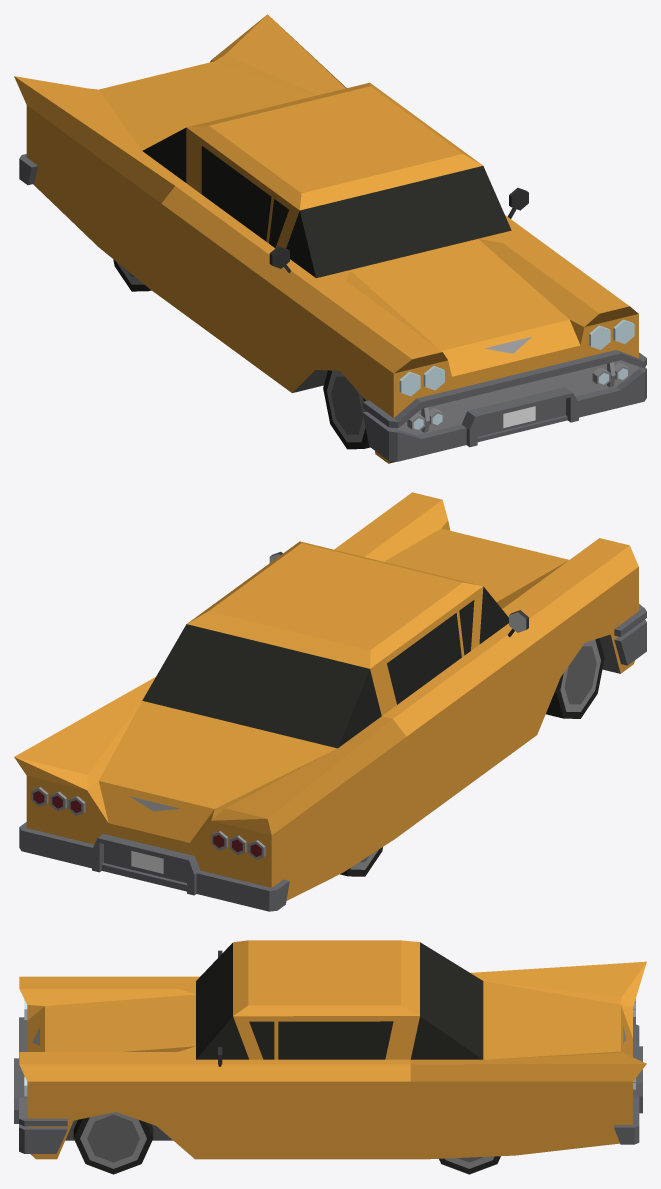
The model's file is Veh_Retro_Car_03_Yellow.glb.
The picture shows the model from 3 angles, top to bottom: view 1: azimuth 30°, elevation 25°; view 2: azimuth 150°, elevation 25°; view 3: azimuth 270°, elevation 25°; orthographic projection. The views are drawn at different scales.
Parts seen in each view (by area): view 1: Retro_Car_03_Green, Wheel_FR; view 2: Retro_Car_03_Green, Wheel_FR; view 3: Retro_Car_03_Green, Wheel_FL, Wheel_RL.
Boxes of the visible parts, x1,y1,x2,y2 form: Retro_Car_03_Green: [14, 14, 646, 463]; Wheel_FR: [323, 370, 369, 449]; Retro_Car_03_Green: [14, 492, 646, 911]; Wheel_FR: [546, 638, 604, 718]; Retro_Car_03_Green: [14, 940, 646, 1159]; Wheel_FL: [73, 1112, 153, 1174]; Wheel_RL: [439, 1156, 500, 1174].
Bounding box in the file's own units: 1.16 × 0.8052 × 2.99.
Materials: 1 (1 with a texture image).
